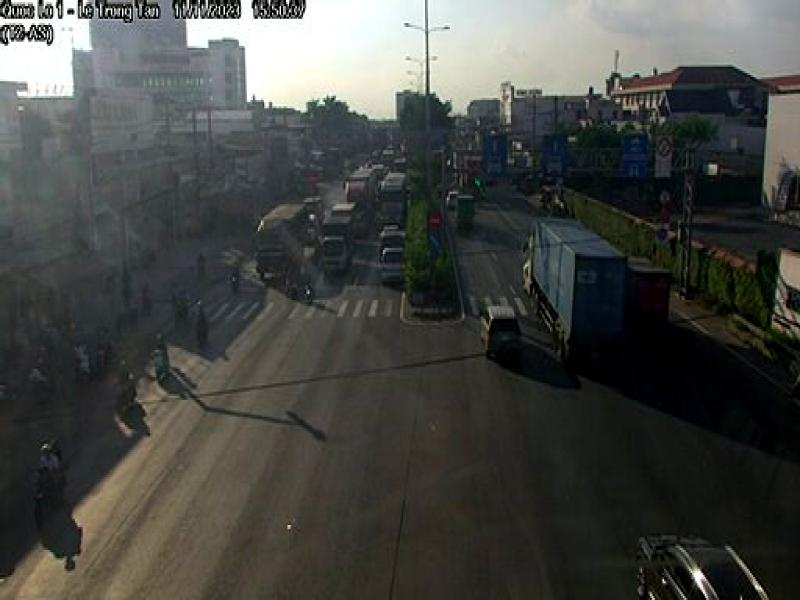truck: (523, 218, 631, 370)
